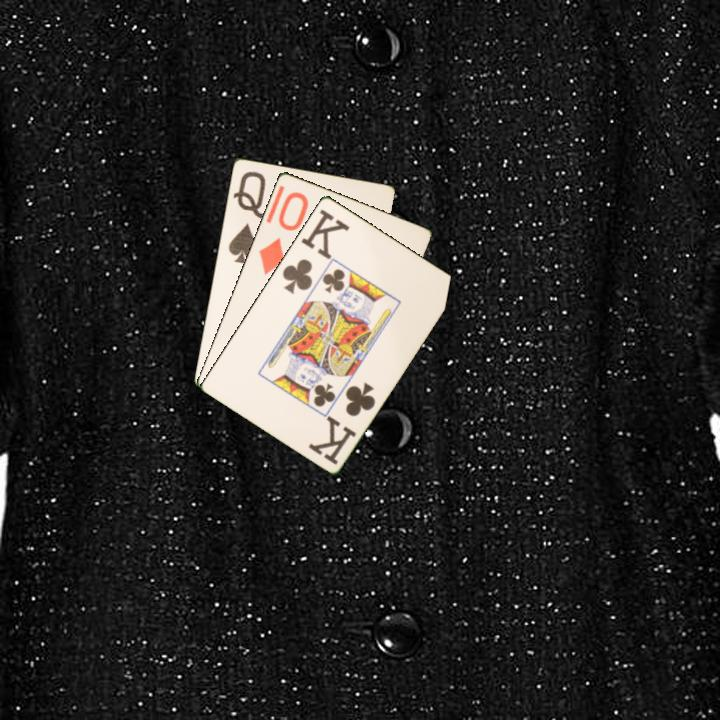10d: (255, 188, 311, 277)
Kc: (279, 205, 352, 297), (306, 378, 378, 467)
Qs: (225, 167, 268, 266)
